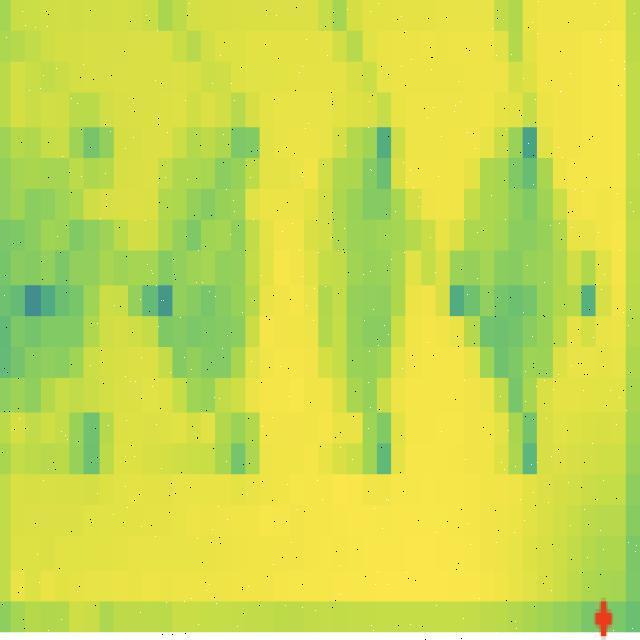Concrete: (155, 98, 277, 431)
Glass: (10, 93, 134, 460)
Metal: (294, 104, 419, 434)
Wood: (456, 92, 585, 454)
